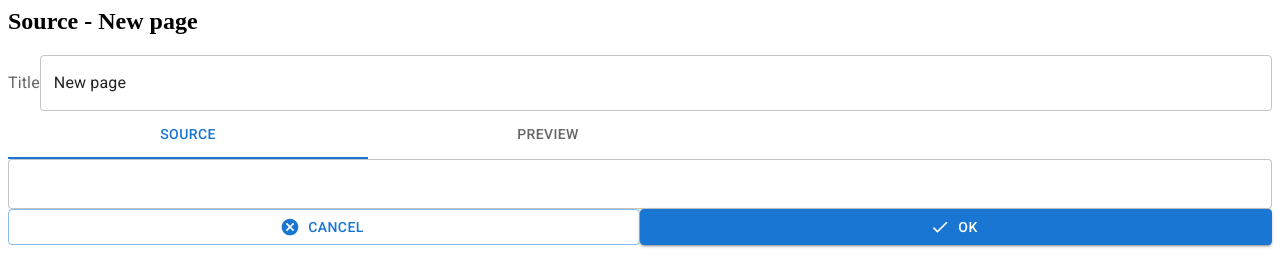
Test case: PageContentEditor component › should show "editing" when the title is updated
The image size is (1280, 265).
Step 1. Type " for test" into the field showing "New page" → (656, 83), box [40, 55, 1272, 111]
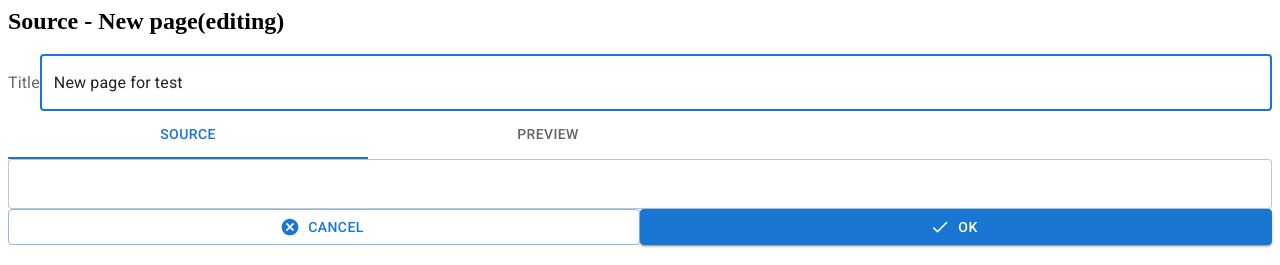
Check: the text "editing" is shown, box [206, 8, 276, 34]
